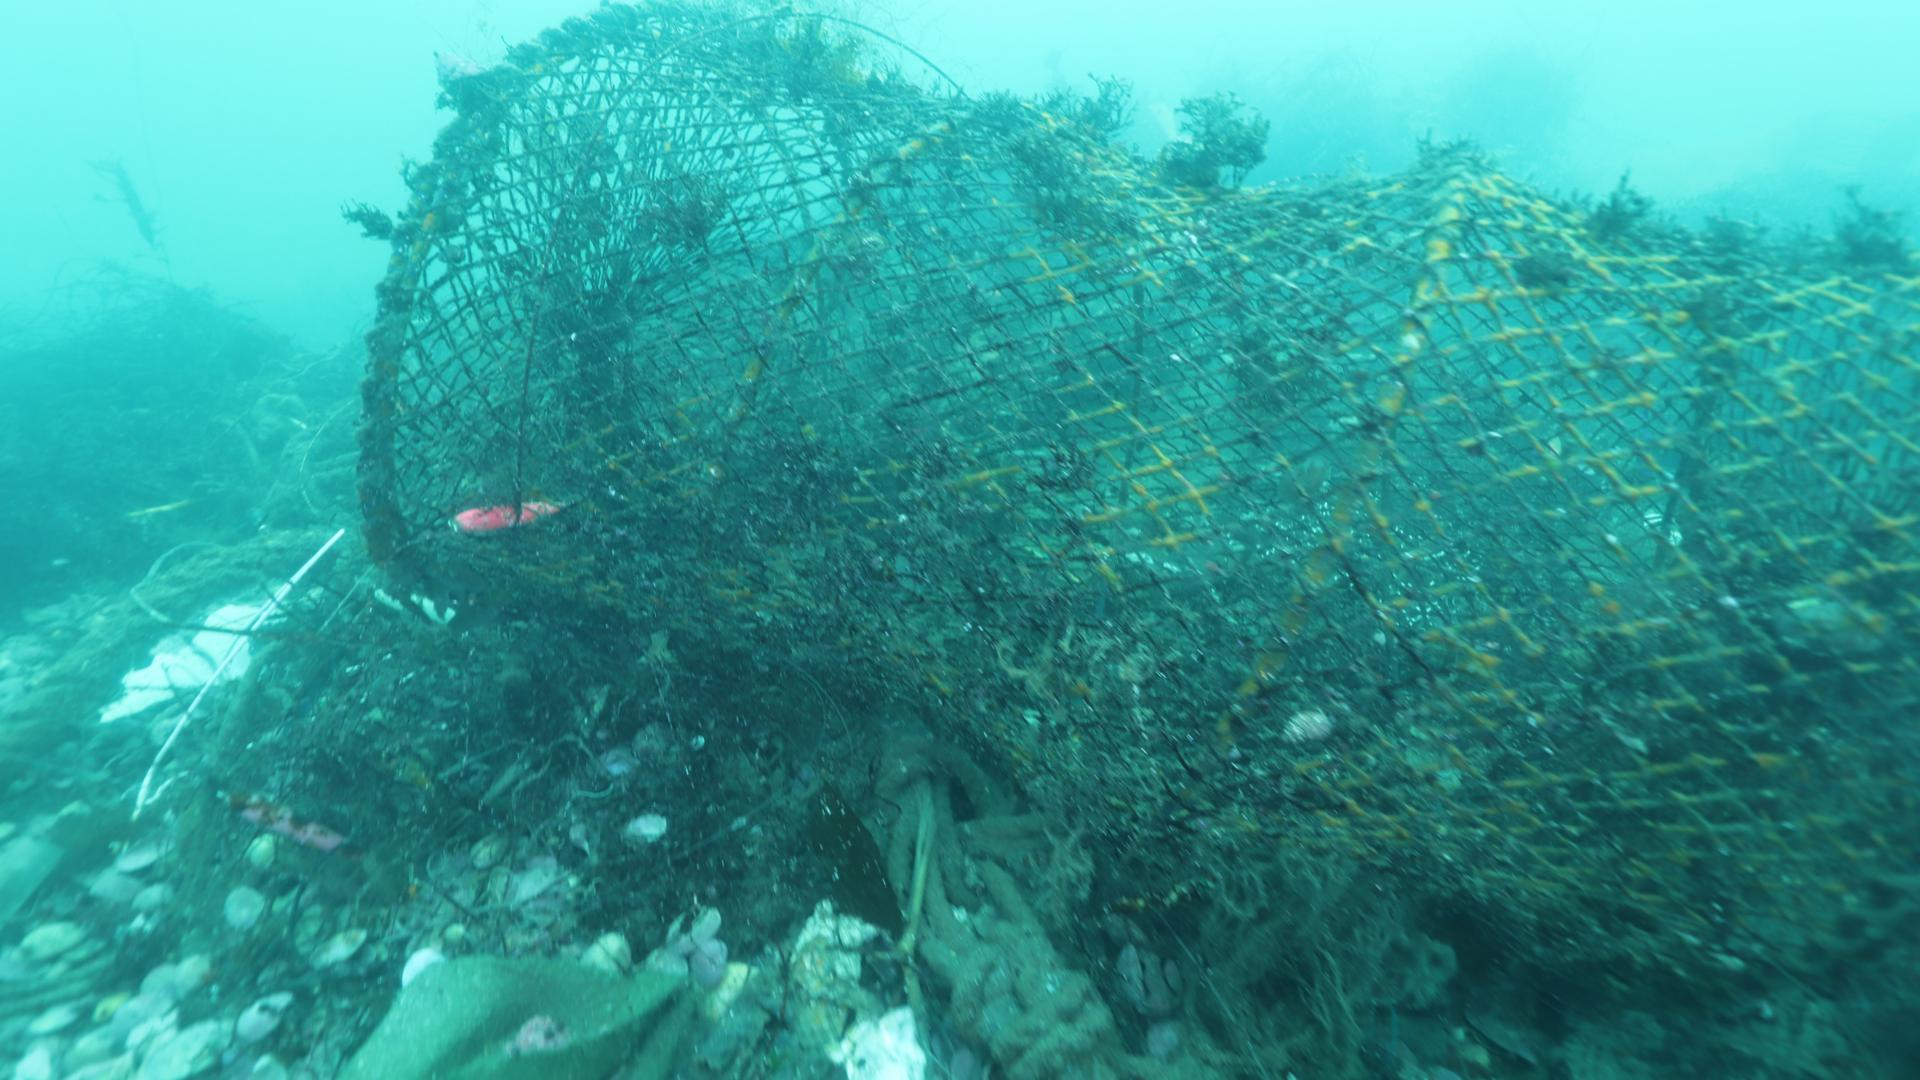spring fish trap: (356, 0, 1920, 1080)
